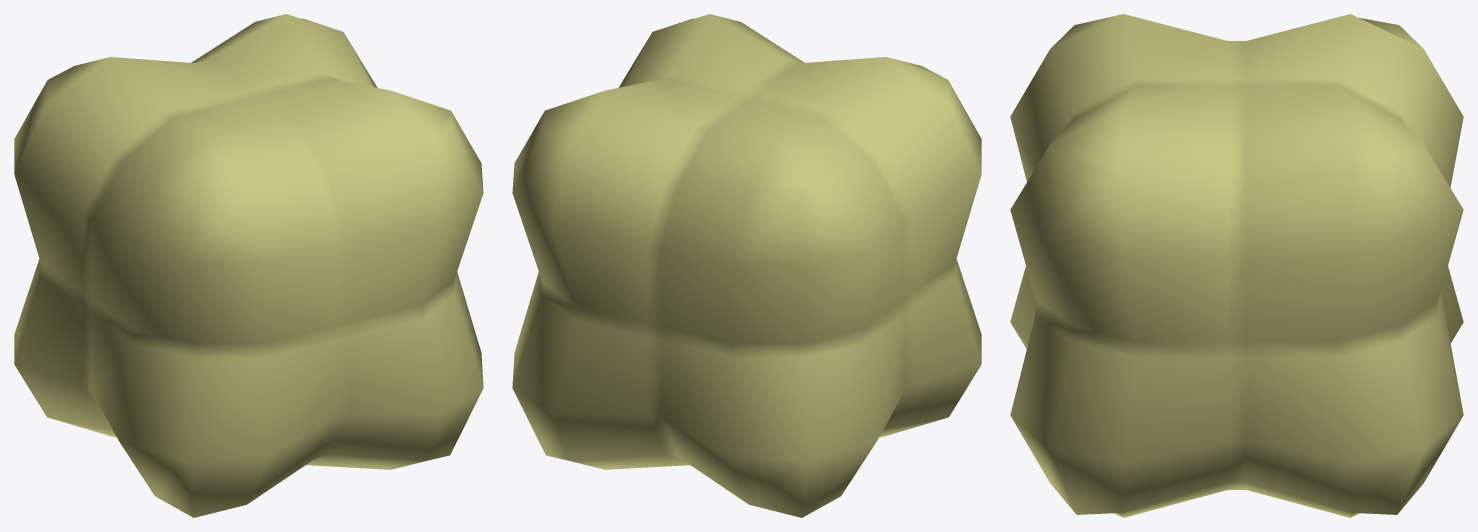
The model's file is Paper_container_2.fbx.
3 renders of one model, left to right at view 1: azimuth 30°, elevation 25°; view 2: azimuth 150°, elevation 25°; view 3: azimuth 270°, elevation 25°, orthographic. The views are drawn at different scales.
Parts seen in each view (by area): view 1: Paper_container_2; view 2: Paper_container_2; view 3: Paper_container_2.
Boxes of the visible parts, <box> form: Paper_container_2: <box>14,14,483,517</box>; Paper_container_2: <box>512,14,981,517</box>; Paper_container_2: <box>1010,14,1463,517</box>.
Bounding box in the file's own units: 45.38 × 45.38 × 45.38.
